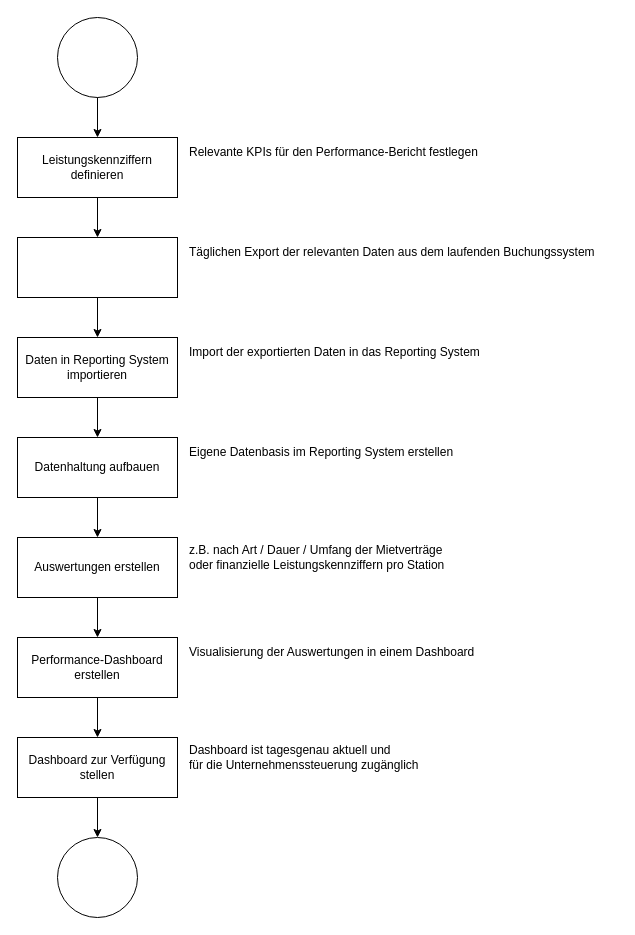
This 635x935 diagram has some shape labels left out. Each missing label, with the centre of its shape:
"Daten aus Buchungssystem exportieren" goes at (x=97, y=267).
"Start" goes at (x=97, y=57).
"Stop" goes at (x=97, y=877).
